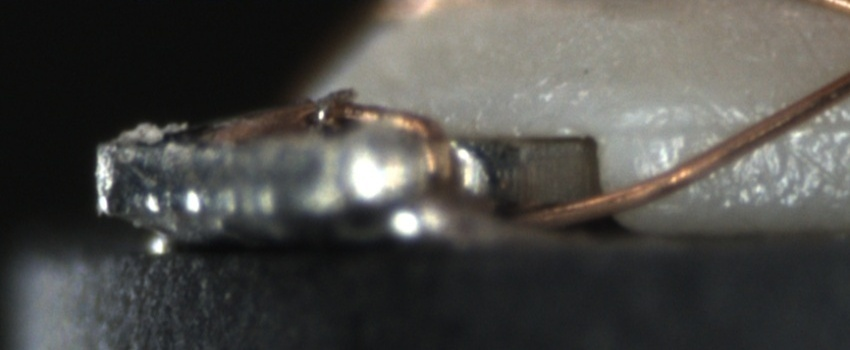DL: (641, 99, 849, 163)
TE: (303, 94, 462, 201)
